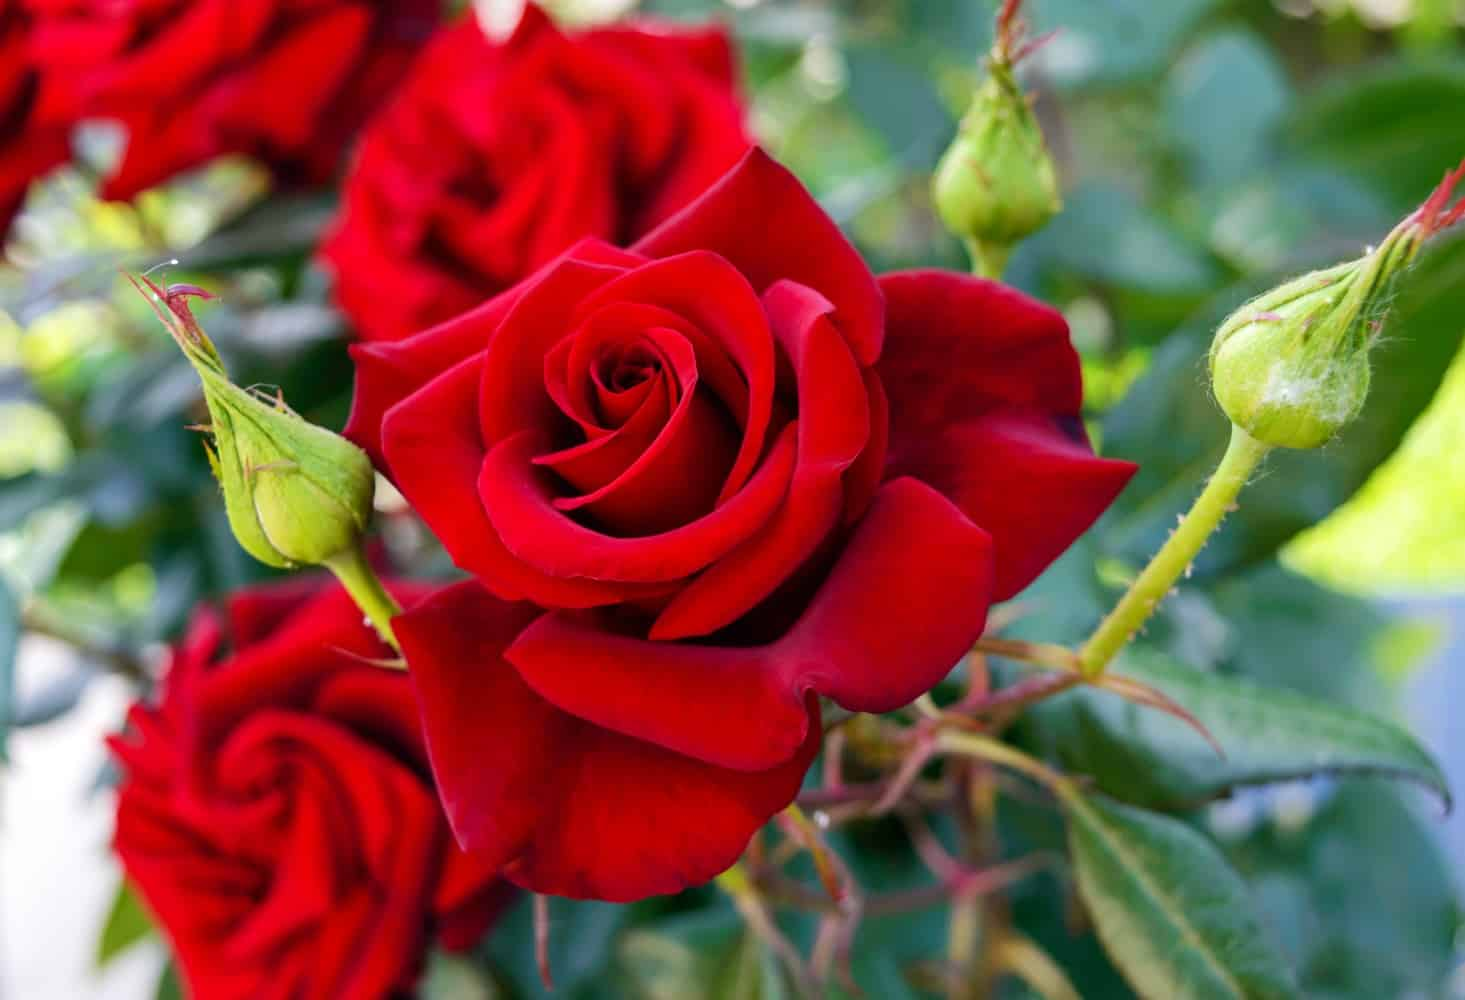rose: (382, 232, 1101, 741)
